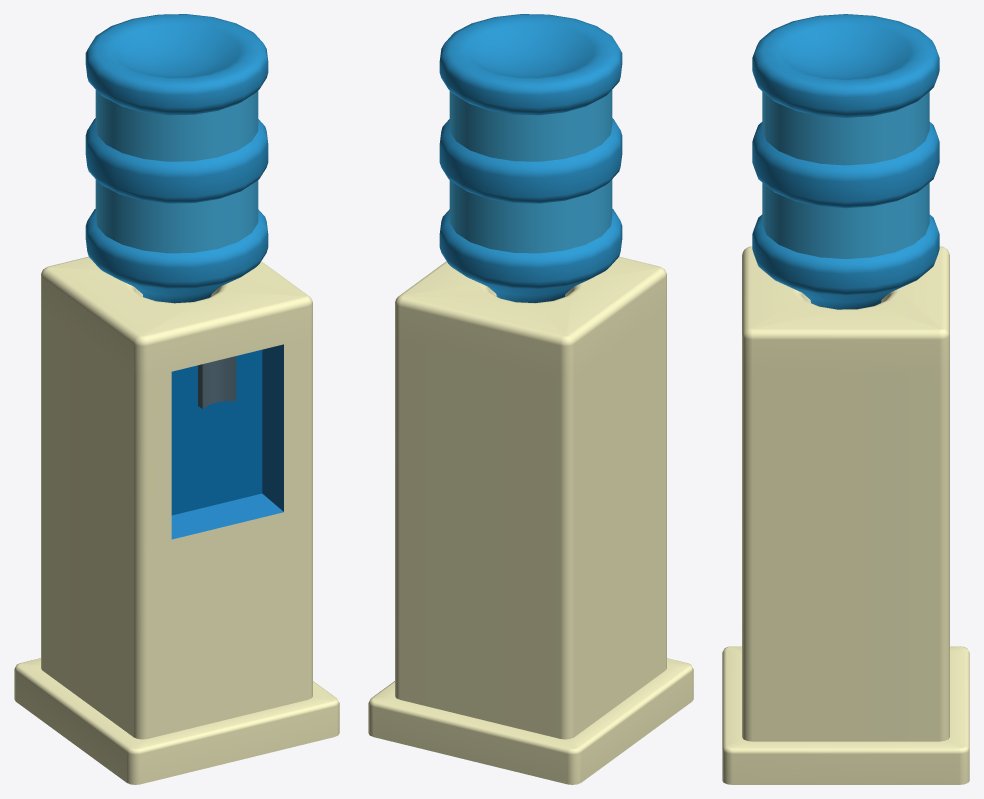
File: Corwd_WaterDispenser_01.fbx
3 renders of one model, left to right at view 1: azimuth 30°, elevation 25°; view 2: azimuth 150°, elevation 25°; view 3: azimuth 270°, elevation 25°, orthographic. The views are drawn at different scales.
Parts seen in each view (by area): view 1: Corwd_WaterDispenser_01; view 2: Corwd_WaterDispenser_01; view 3: Corwd_WaterDispenser_01.
Boxes of the visible parts, x1,y1,x2,y2 form: Corwd_WaterDispenser_01: (14, 14, 339, 784); Corwd_WaterDispenser_01: (368, 14, 693, 784); Corwd_WaterDispenser_01: (722, 14, 969, 784).
Bounding box in the file's own units: 65.65 × 198 × 65.09.
